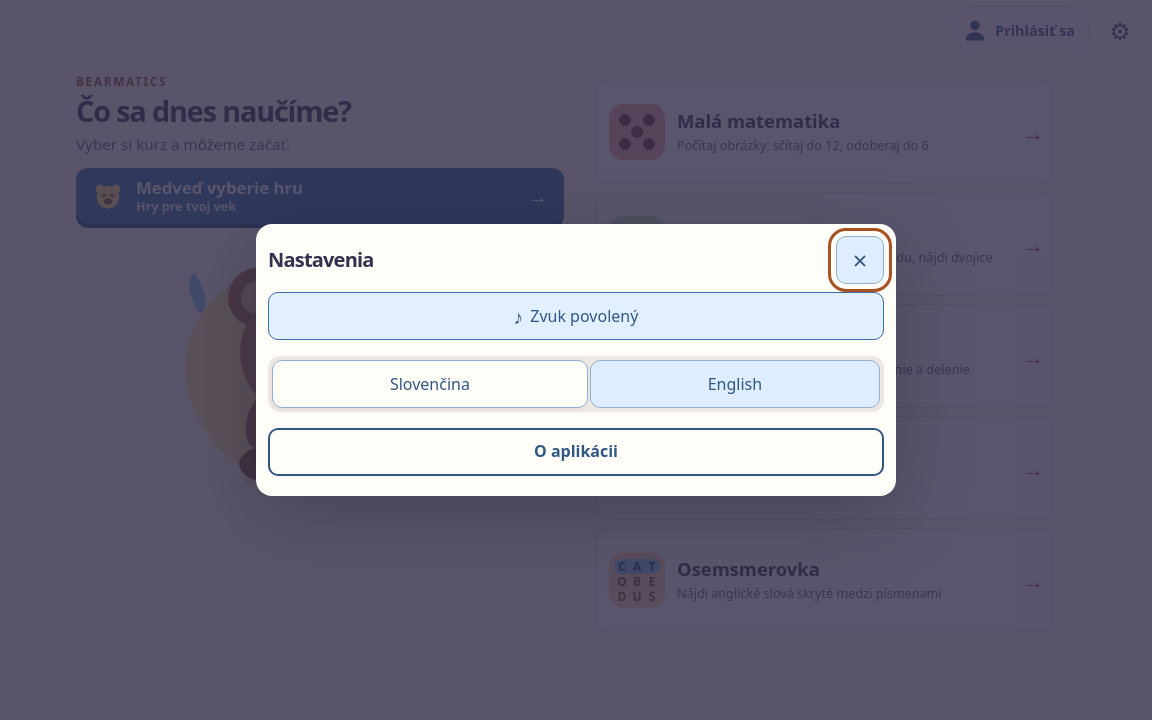
Test: Slovak level menu and lesson texts
Earlier steps of the test are not shown.
Click the button named "Zavrieť nastavenia": coordinates (860, 260) [836, 236, 884, 284]
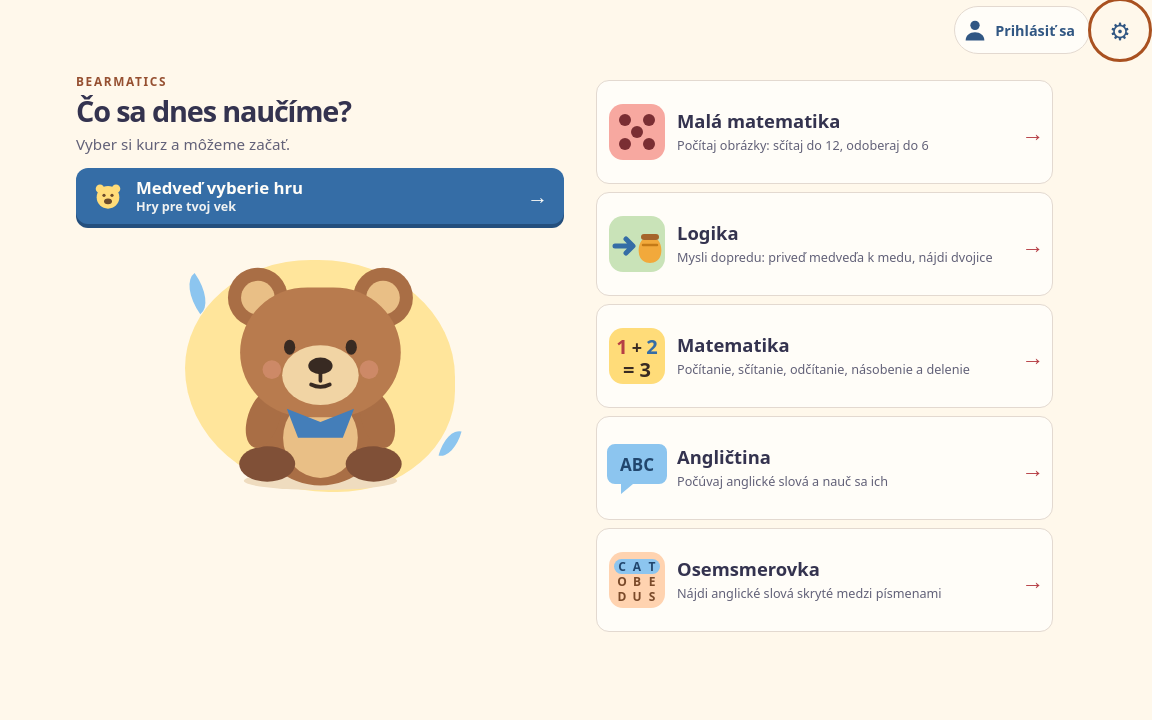
Click the button "Logika": coordinates (637, 244) [596, 192, 1053, 296]
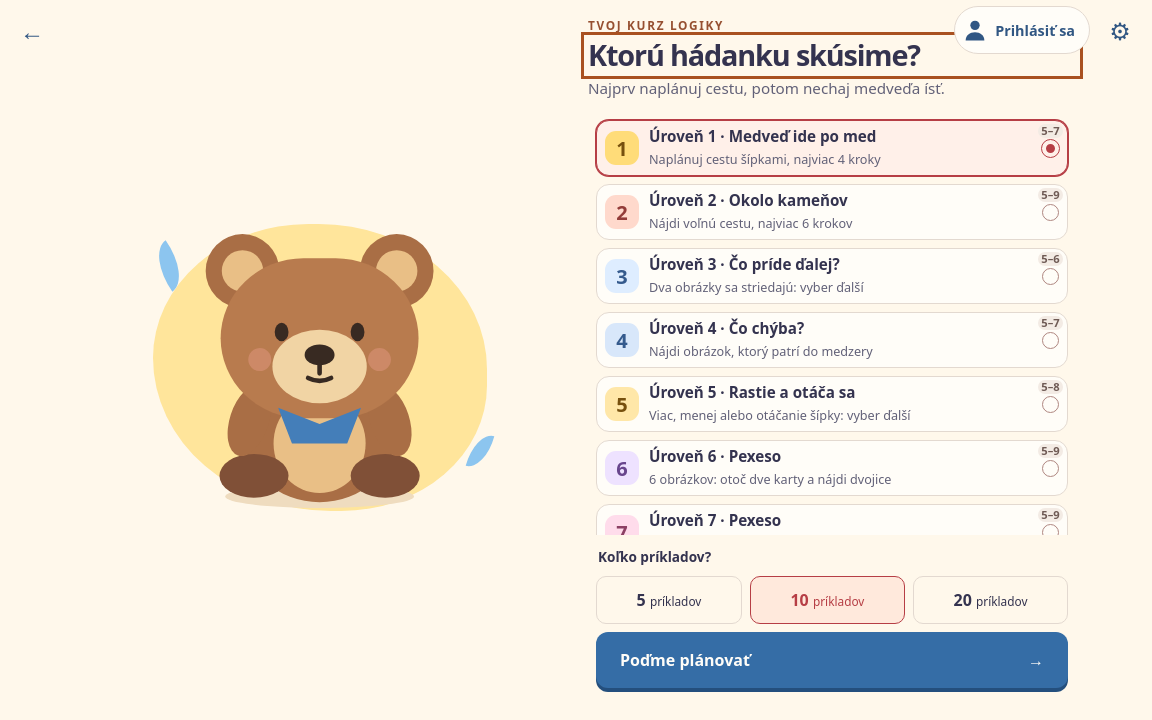
Expected: the radio button labelled "Úroveň 1 · Medveď ide po med" is checked, [596, 120, 1068, 176]
Expected: the text "Naplánuj cestu šípkami, najviac 4 kroky" is shown, [649, 150, 881, 168]
Click the button "Poďme plánovať →": coordinates (685, 660) [596, 632, 1068, 688]
Wait 3210 ms
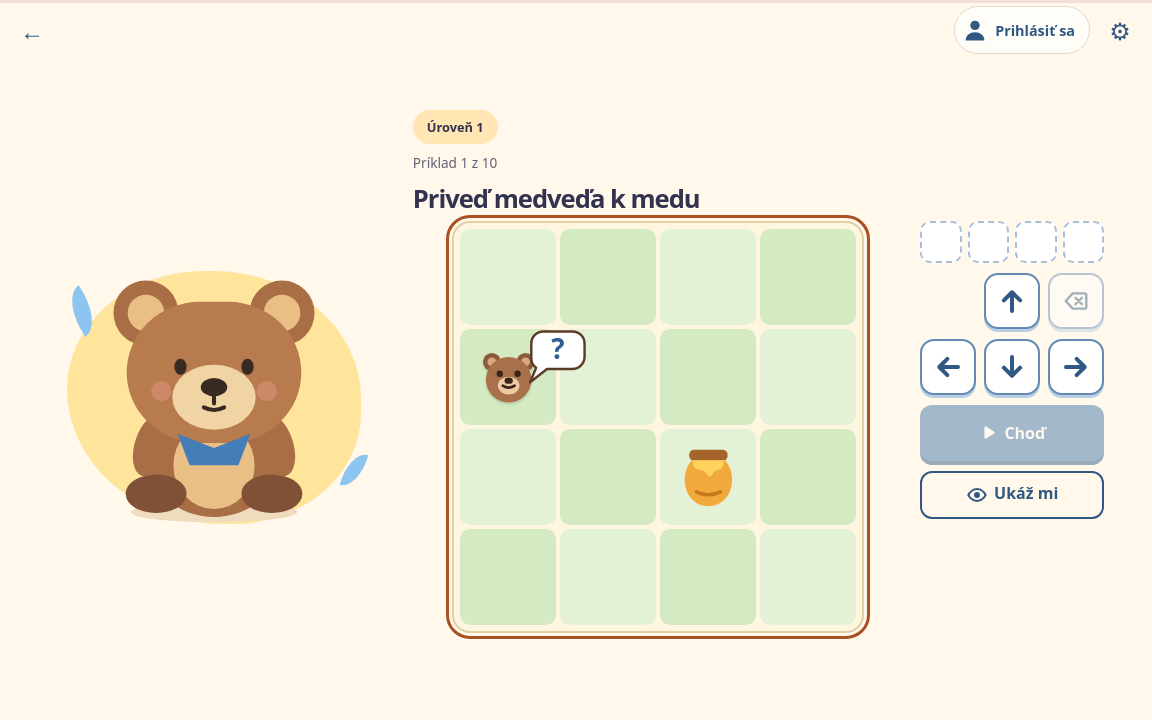
Expected: the button named "Hore" is shown, [984, 273, 1040, 329]
Expected: the button named "Dole" is shown, [984, 339, 1040, 395]
Expected: the button named "Vľavo" is shown, [920, 339, 976, 395]
Click the button named "Vpravo": coordinates (1076, 367) [1048, 339, 1104, 395]
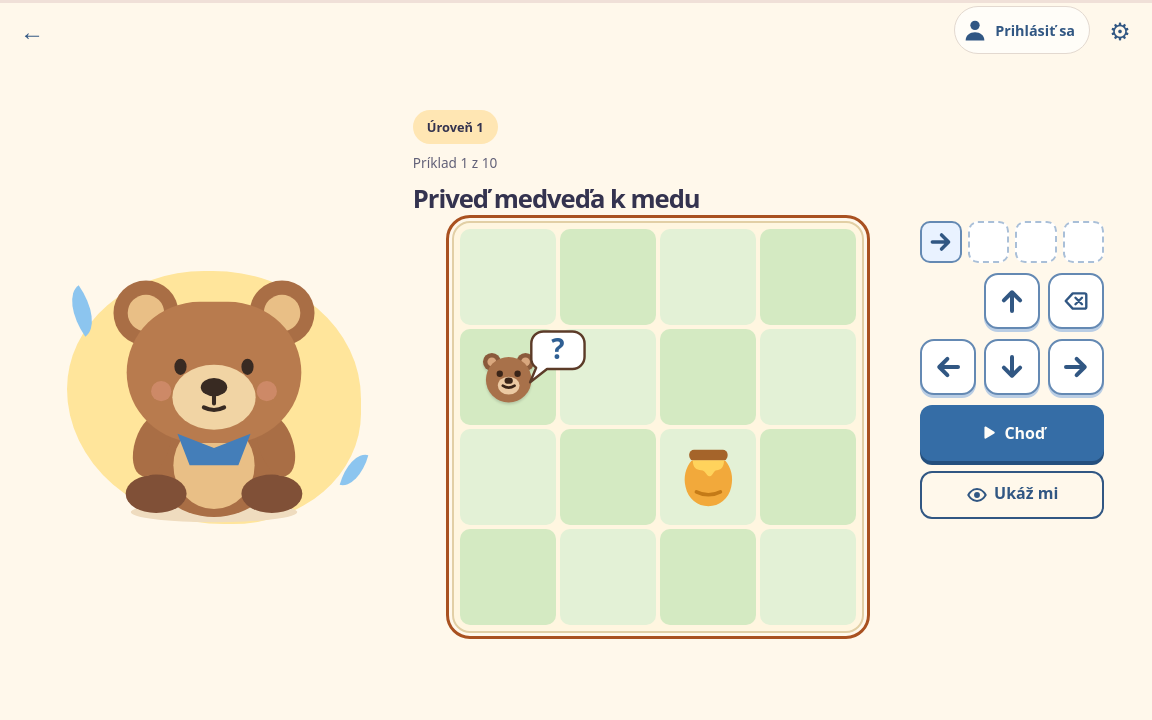
Click the button named "Vpravo": coordinates (1076, 367) [1048, 339, 1104, 395]
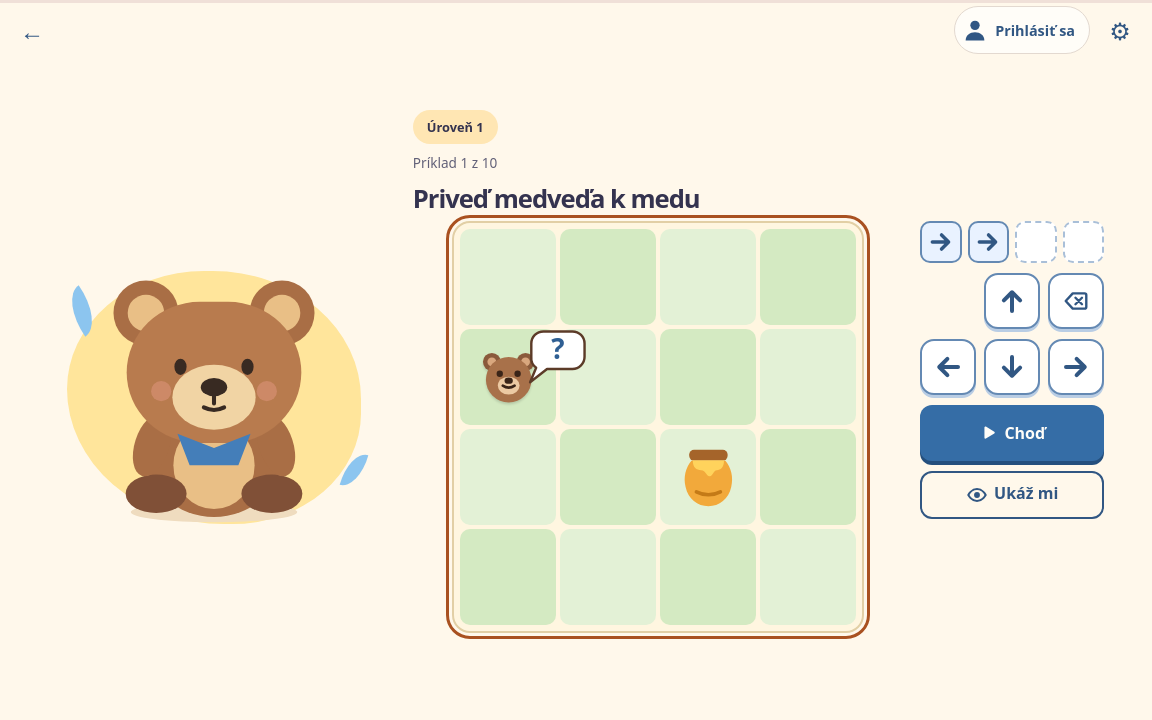
Click the button named "Dole": coordinates (1012, 367) [984, 339, 1040, 395]
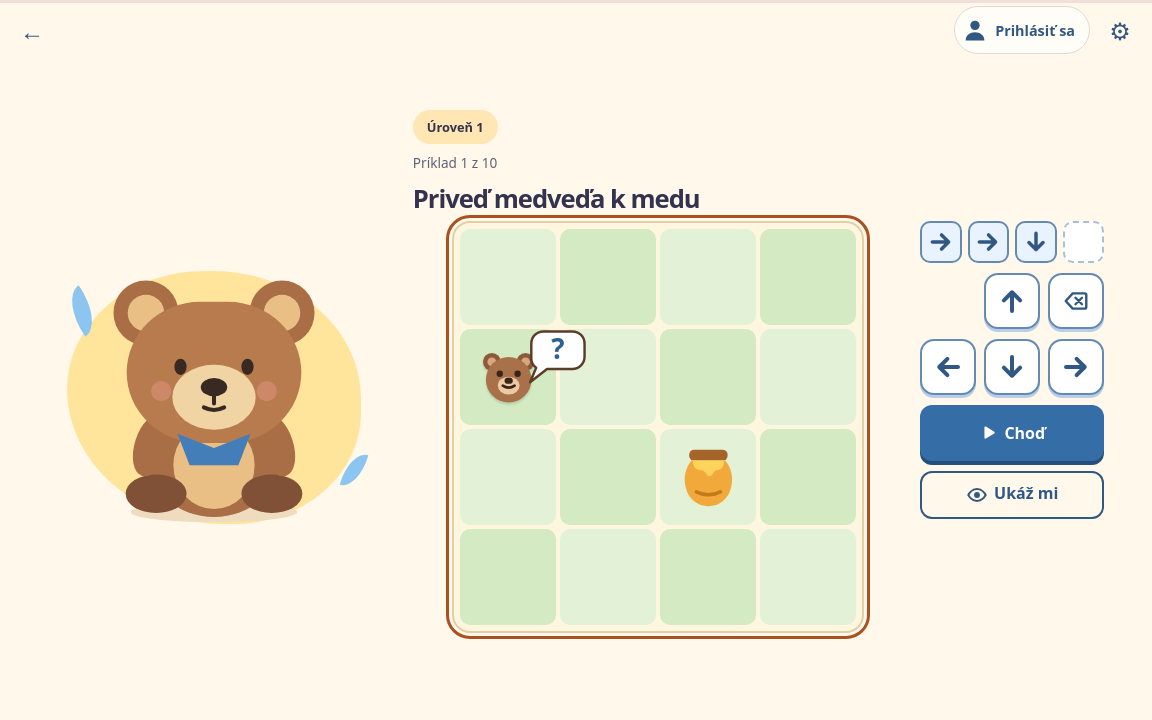
Expected: the list named "Šípky: vpravo, vpravo, dole" is shown, [920, 221, 1104, 263]
